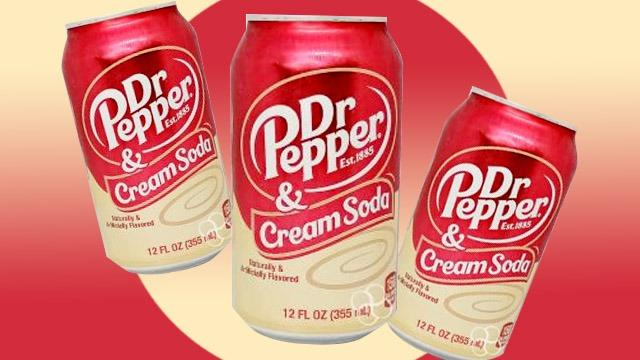can: (230, 15, 402, 344), (391, 87, 575, 359), (62, 2, 231, 274)
